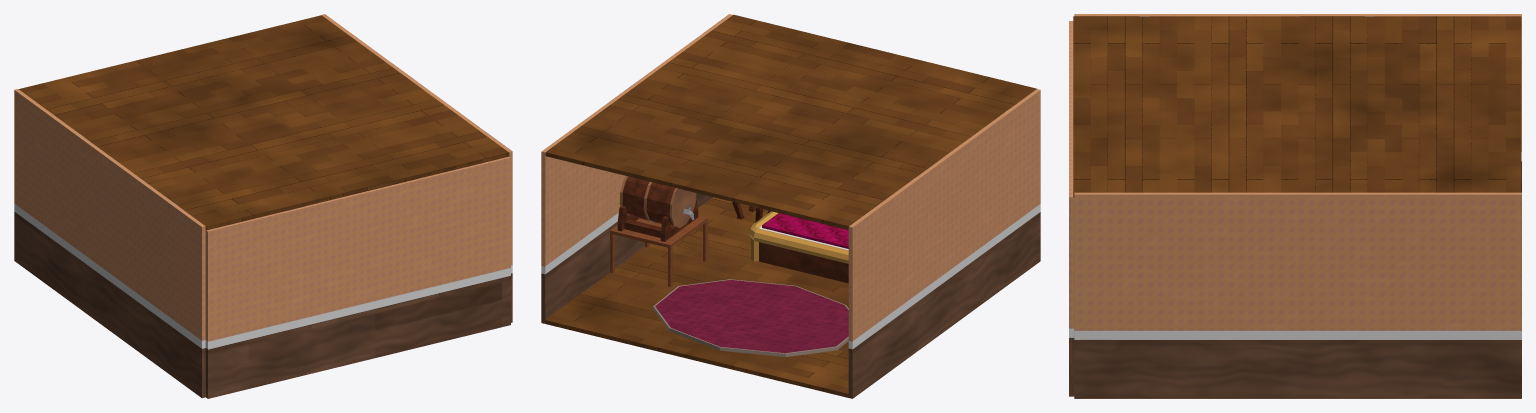
The model's file is Accomodation3_3.fbx.
The picture shows the model from 3 angles, left to right: view 1: azimuth 30°, elevation 25°; view 2: azimuth 150°, elevation 25°; view 3: azimuth 270°, elevation 25°; orthographic projection. The views are drawn at different scales.
Parts seen in each view (by area): view 1: Ceiling.006, BackWallAcc3, SideWall1.040, SideWallAcc3; view 2: Ceiling.006, SideWall1.040, Ground.007, Carpet, SideWallAcc3, RoyalBed, BeerTap, Table; view 3: SideWallAcc3, Ceiling.006, BackWallAcc3, SideWall1.040.
Part boxes in pixels (x1,y1,x2,y2): Ceiling.006: (19, 15, 509, 230); BackWallAcc3: (205, 156, 510, 398); SideWall1.040: (14, 89, 205, 398); SideWallAcc3: (321, 14, 512, 322); Ceiling.006: (545, 14, 1036, 229); SideWall1.040: (848, 89, 1040, 398); Ground.007: (545, 197, 848, 397); Carpet: (653, 279, 848, 356); SideWallAcc3: (541, 14, 732, 323); RoyalBed: (749, 211, 848, 283); BeerTap: (617, 176, 698, 241); Table: (610, 215, 707, 286); SideWallAcc3: (1074, 192, 1521, 398); Ceiling.006: (1073, 16, 1520, 197); BackWallAcc3: (1069, 21, 1074, 396); SideWall1.040: (1074, 14, 1521, 192).
Bounding box in the file's own units: 517 × 273 × 547.
